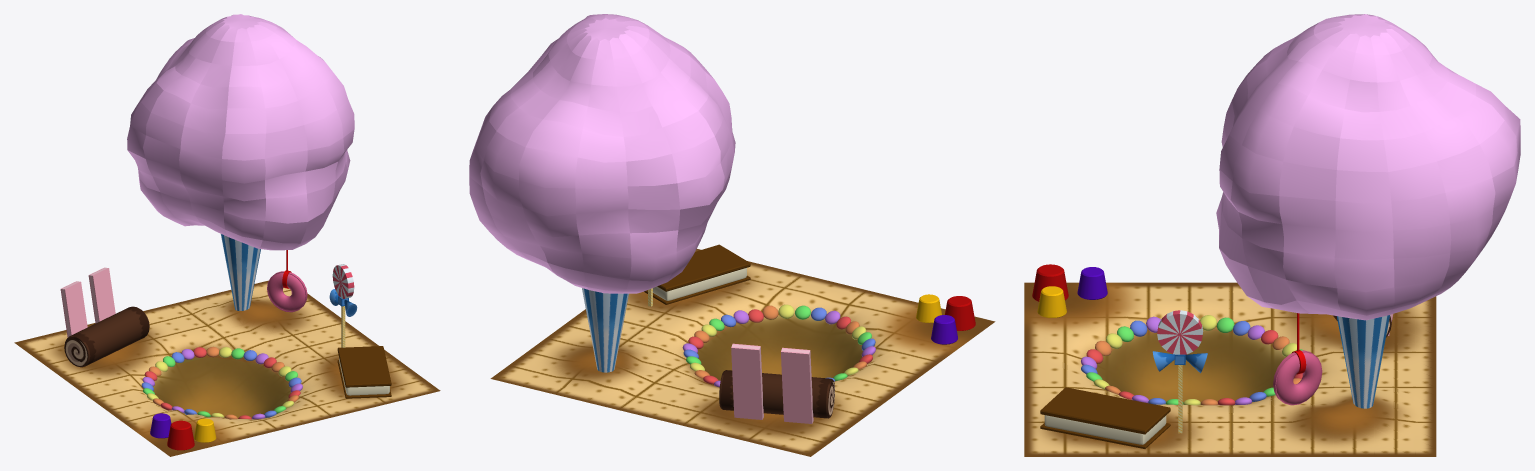
File: grae steele candy scene.fbx
3 views of the same model, side by side, from view 1: azimuth 30°, elevation 25°; view 2: azimuth 150°, elevation 25°; view 3: azimuth 270°, elevation 25° (orthographic). The views are drawn at different scales.
Parts seen in each view (by area): view 1: cotton_candy, graham_cracker_floor, candies, ho_ho_bench, ice_cream_sammich_bench, cc_cone, dots_trio, life_saver_ring1, lollipop, wafer_right, wafer_left; view 2: cotton_candy, graham_cracker_floor, candies, ice_cream_sammich_bench, cc_cone, ho_ho_bench, wafer_left, wafer_right, dots_trio; view 3: cotton_candy, graham_cracker_floor, ice_cream_sammich_bench, candies, cc_cone, lollipop, dots_trio, life_saver_ring1.
Part boxes in pixels (x1,y1,x2,y2): cotton_candy: (127, 14, 354, 250); graham_cracker_floor: (14, 280, 440, 456); candies: (141, 346, 302, 419); ho_ho_bench: (64, 306, 149, 367); ice_cream_sammich_bench: (337, 346, 391, 398); cc_cone: (220, 234, 260, 311); dots_trio: (150, 413, 216, 450); life_saver_ring1: (267, 271, 307, 312); lollipop: (329, 264, 357, 347); wafer_right: (88, 267, 115, 323); wafer_left: (60, 281, 87, 337); cotton_candy: (469, 14, 735, 293); graham_cracker_floor: (490, 249, 995, 456); candies: (682, 304, 875, 387); ice_cream_sammich_bench: (644, 244, 750, 304); cc_cone: (582, 288, 628, 372); ho_ho_bench: (719, 370, 834, 418); wafer_left: (781, 347, 813, 423); wafer_right: (731, 343, 763, 419); dots_trio: (916, 294, 975, 344); cotton_candy: (1216, 14, 1520, 320); graham_cracker_floor: (1024, 282, 1436, 456); ice_cream_sammich_bench: (1040, 387, 1170, 448); candies: (1081, 315, 1303, 405); cc_cone: (1336, 315, 1389, 408); lollipop: (1152, 310, 1207, 433); dots_trio: (1032, 264, 1107, 317); life_saver_ring1: (1273, 350, 1322, 405).
Bounding box in the file's own units: 25.55 × 27.09 × 28.03.
